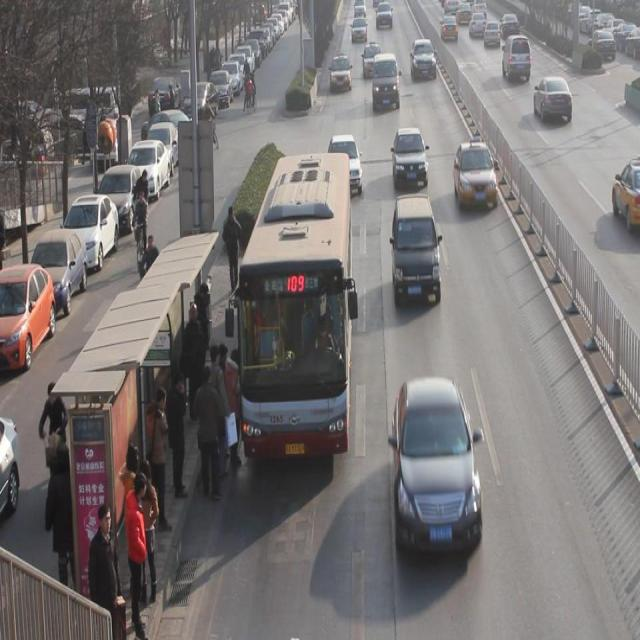car: (394, 378, 483, 555), (453, 138, 498, 213), (391, 128, 428, 188), (534, 74, 574, 126), (327, 136, 362, 195), (410, 40, 437, 80), (330, 54, 352, 92), (362, 42, 382, 79), (500, 13, 520, 40), (441, 14, 458, 42), (352, 16, 368, 43), (469, 13, 486, 38), (484, 22, 500, 47)
truck: (391, 194, 441, 305), (373, 53, 400, 111), (502, 36, 532, 83)
van: (233, 158, 353, 450)
